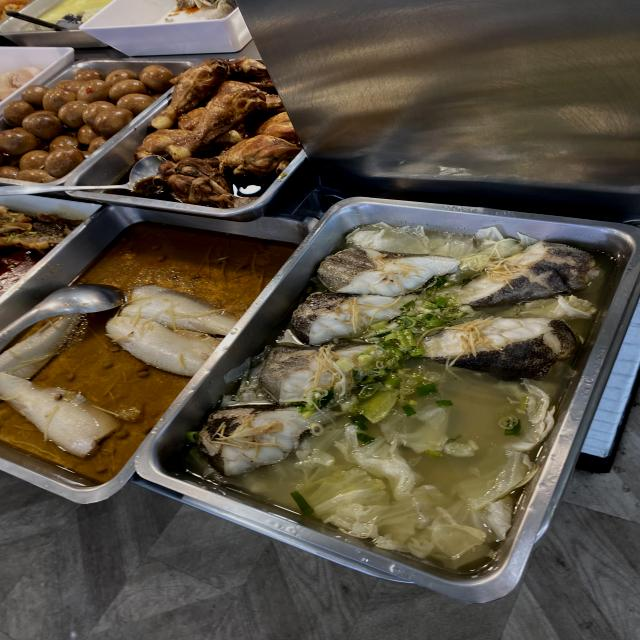Steamed fish: (327, 255, 567, 397)
